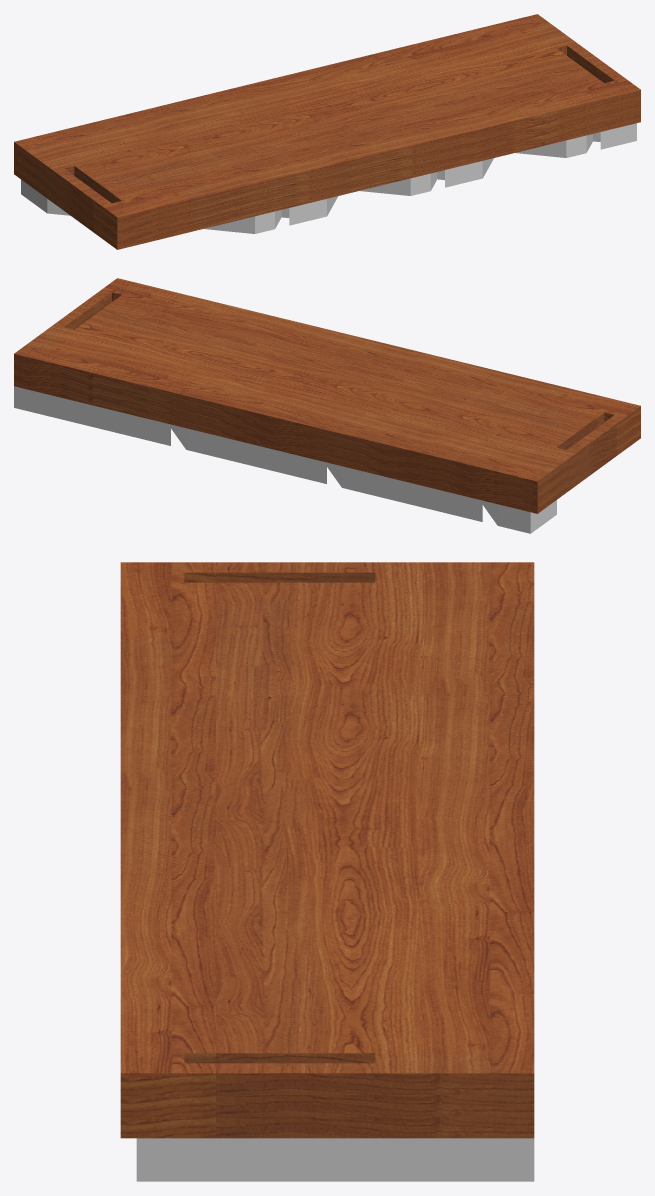
File: sia.glb
The picture shows the model from 3 angles, top to bottom: view 1: azimuth 30°, elevation 25°; view 2: azimuth 150°, elevation 25°; view 3: azimuth 270°, elevation 25°; orthographic projection. The views are drawn at different scales.
Parts seen in each view (by area): view 1: papan besar.001, papan mini.002, papan mini, papan mini.001, papan samping.001, papan samping, papan besar, papan besar.002; view 2: papan besar.001, papan mini.002, papan besar, papan besar.002, papan samping.001, papan samping; view 3: papan besar.001, papan mini.002, papan samping, papan samping.001, papan besar, papan besar.002, papan mini, papan mini.001.
Boxes of the visible parts, left/top/right/bottom form: papan besar.001: left=14, top=14, right=616, bottom=210; papan mini.002: left=93, top=72, right=640, bottom=228; papan mini: left=93, top=111, right=640, bottom=249; papan mini.001: left=93, top=100, right=640, bottom=238; papan samping.001: left=21, top=130, right=636, bottom=233; papan samping: left=21, top=123, right=636, bottom=223; papan besar: left=14, top=163, right=93, bottom=232; papan besar.002: left=14, top=153, right=93, bottom=221; papan besar.001: left=14, top=295, right=616, bottom=492; papan mini.002: left=94, top=278, right=640, bottom=433; papan besar: left=14, top=375, right=616, bottom=513; papan besar.002: left=14, top=364, right=616, bottom=502; papan samping.001: left=14, top=397, right=556, bottom=533; papan samping: left=14, top=386, right=556, bottom=522; papan besar.001: left=216, top=562, right=534, bottom=1094; papan mini.002: left=120, top=562, right=215, bottom=1094; papan samping: left=136, top=1138, right=534, bottom=1159; papan samping.001: left=136, top=1160, right=534, bottom=1181; papan besar: left=216, top=1116, right=534, bottom=1138; papan besar.002: left=216, top=1095, right=534, bottom=1116; papan mini: left=120, top=1116, right=215, bottom=1138; papan mini.001: left=120, top=1095, right=215, bottom=1116.
Bounding box in the file's own units: 0.76 × 0.075 × 0.26.
2 materials, 1 textured.
